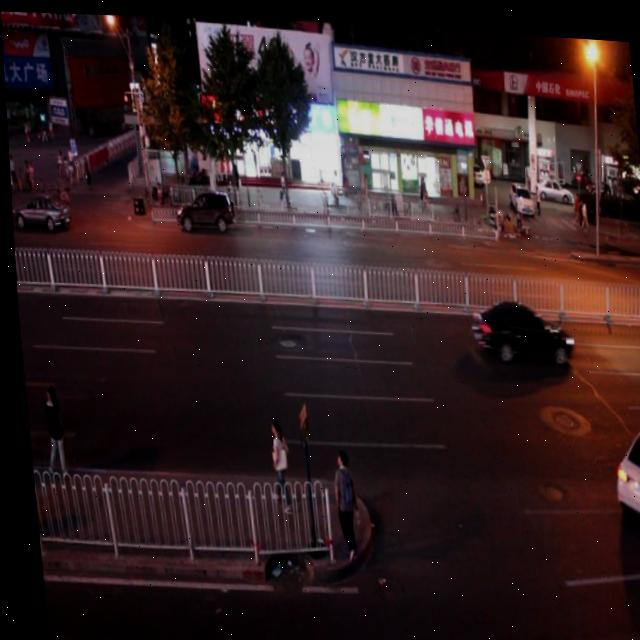car: (467, 284, 570, 364), (605, 405, 640, 522), (172, 184, 233, 231), (9, 187, 69, 234)
